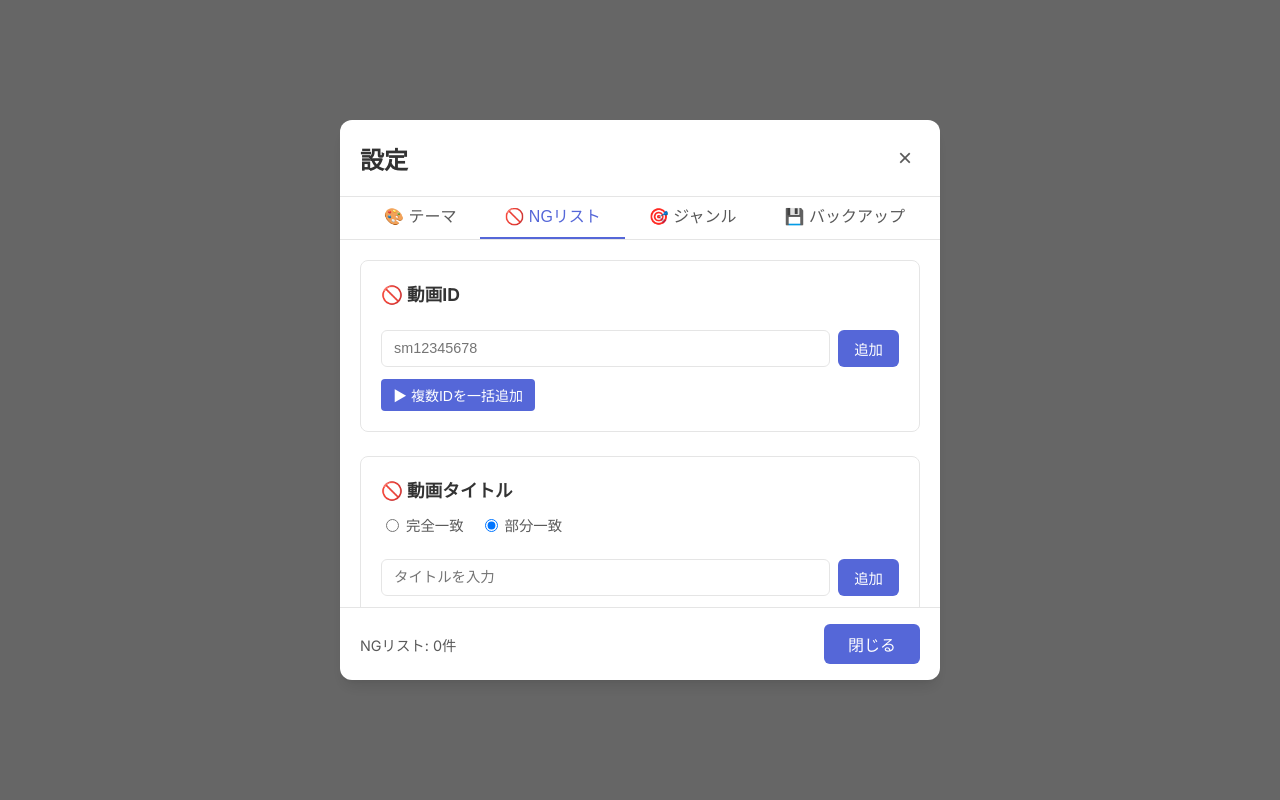
Test: Genre Order Integration › displays genre order customizer when tab is clicked
Click the button "🎯 ジャンル": (693, 218) x1=625 y1=197 x2=760 y2=239
(page scrolled)
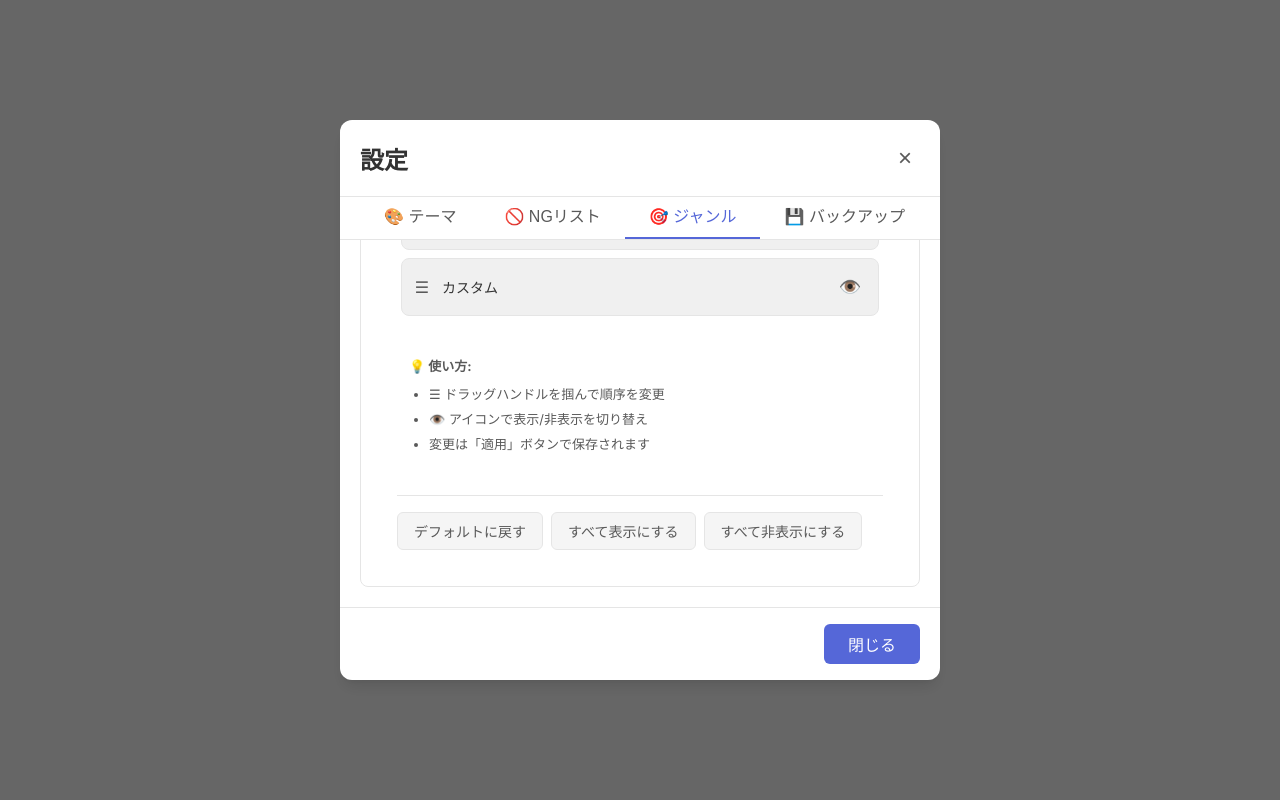
Check: the button "デフォルトに戻す" is shown, box x1=397 y1=512 x2=543 y2=550
